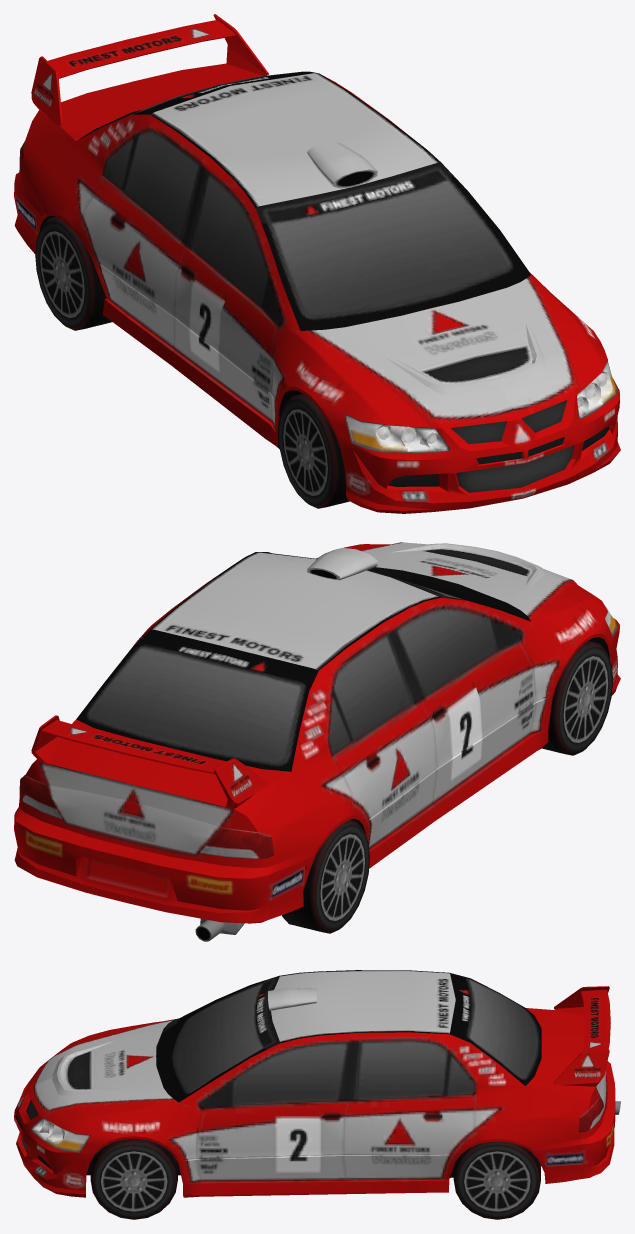
The model's file is body_geo.glb.
3 views of the same model, one above another, from view 1: azimuth 30°, elevation 25°; view 2: azimuth 150°, elevation 25°; view 3: azimuth 270°, elevation 25° (orthographic). The views are drawn at different scales.
Visible parts, largest first — view 1: body_geo, L_front_wheel_geo #370597.003, L_front_wheel_geo #370597.002; view 2: body_geo, L_front_wheel_geo #370597.002, L_front_wheel_geo #370597.003; view 3: body_geo, L_front_wheel_geo #370597, L_front_wheel_geo #370597.001.
Part boxes in pixels (bbox=[...]): body_geo: bbox=[14, 14, 620, 513]; L_front_wheel_geo #370597.003: bbox=[278, 393, 349, 508]; L_front_wheel_geo #370597.002: bbox=[35, 216, 111, 330]; body_geo: bbox=[14, 542, 620, 941]; L_front_wheel_geo #370597.002: bbox=[282, 820, 369, 933]; L_front_wheel_geo #370597.003: bbox=[542, 640, 613, 755]; body_geo: bbox=[14, 970, 620, 1197]; L_front_wheel_geo #370597: bbox=[90, 1138, 177, 1219]; L_front_wheel_geo #370597.001: bbox=[453, 1141, 540, 1219].
Bounding box in the file's own units: 1.76 × 1.43 × 4.4.
5 materials, 5 textured.
